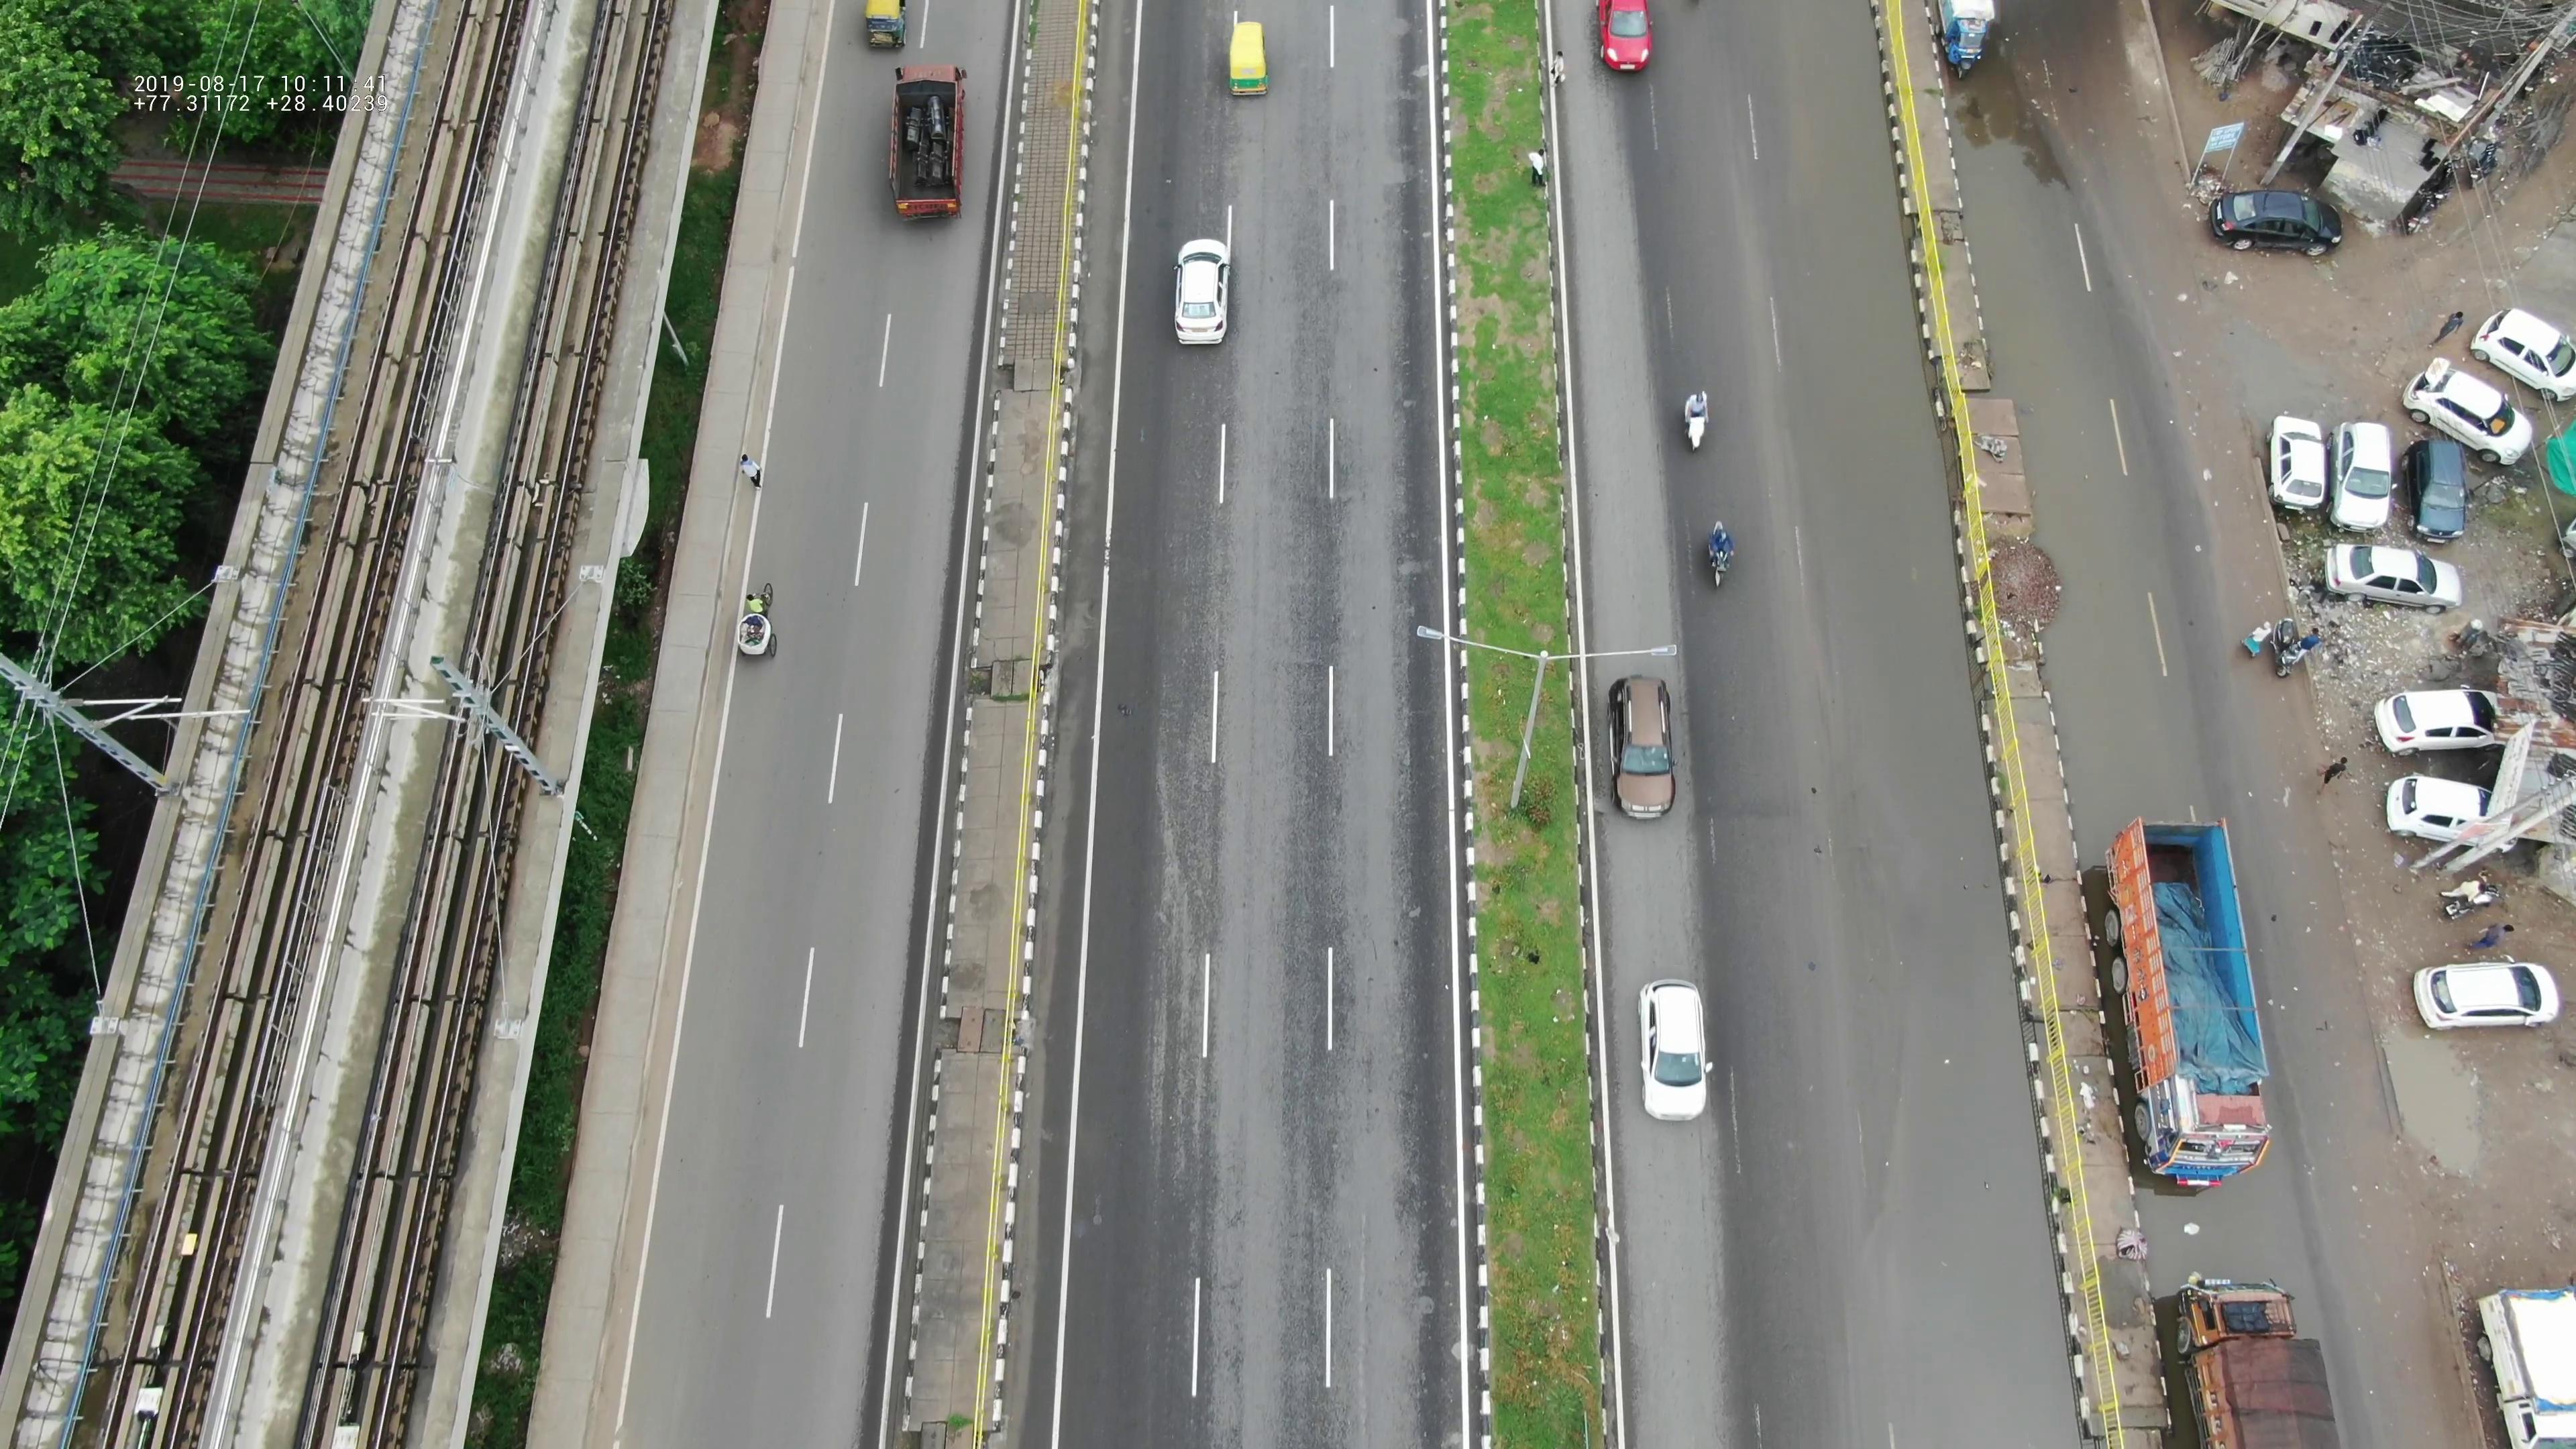Waterlogging: (1776, 156, 1996, 931), (1959, 108, 2180, 699), (1851, 1028, 2063, 1428)
